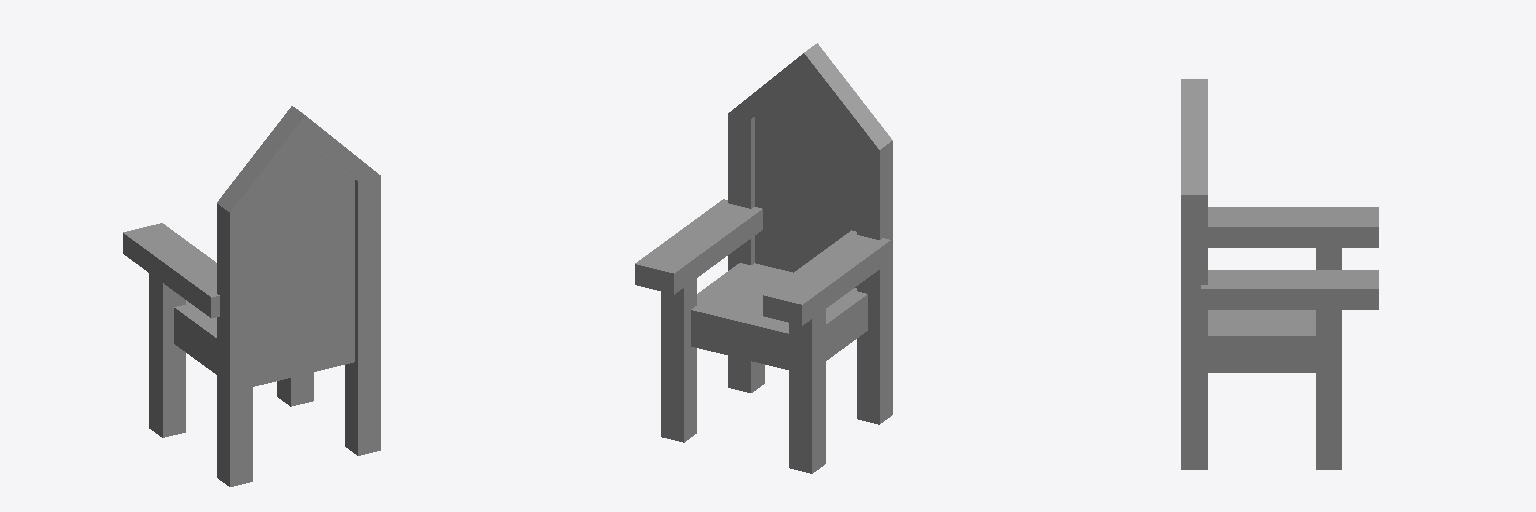
File: armchair.obj
The picture shows the model from 3 angles: view 1: azimuth 30°, elevation 25°; view 2: azimuth 150°, elevation 25°; view 3: azimuth 270°, elevation 25°; orthographic projection.
Parts seen in each view (by area): view 1: Armchair; view 2: Armchair; view 3: Armchair.
Boxes of the visible parts, box(x1,y1,x2,y2) form: Armchair: box(123, 106, 380, 486); Armchair: box(635, 43, 892, 473); Armchair: box(1181, 79, 1378, 469).
Bounding box in the file's own units: 1.21 × 2.44 × 1.24.